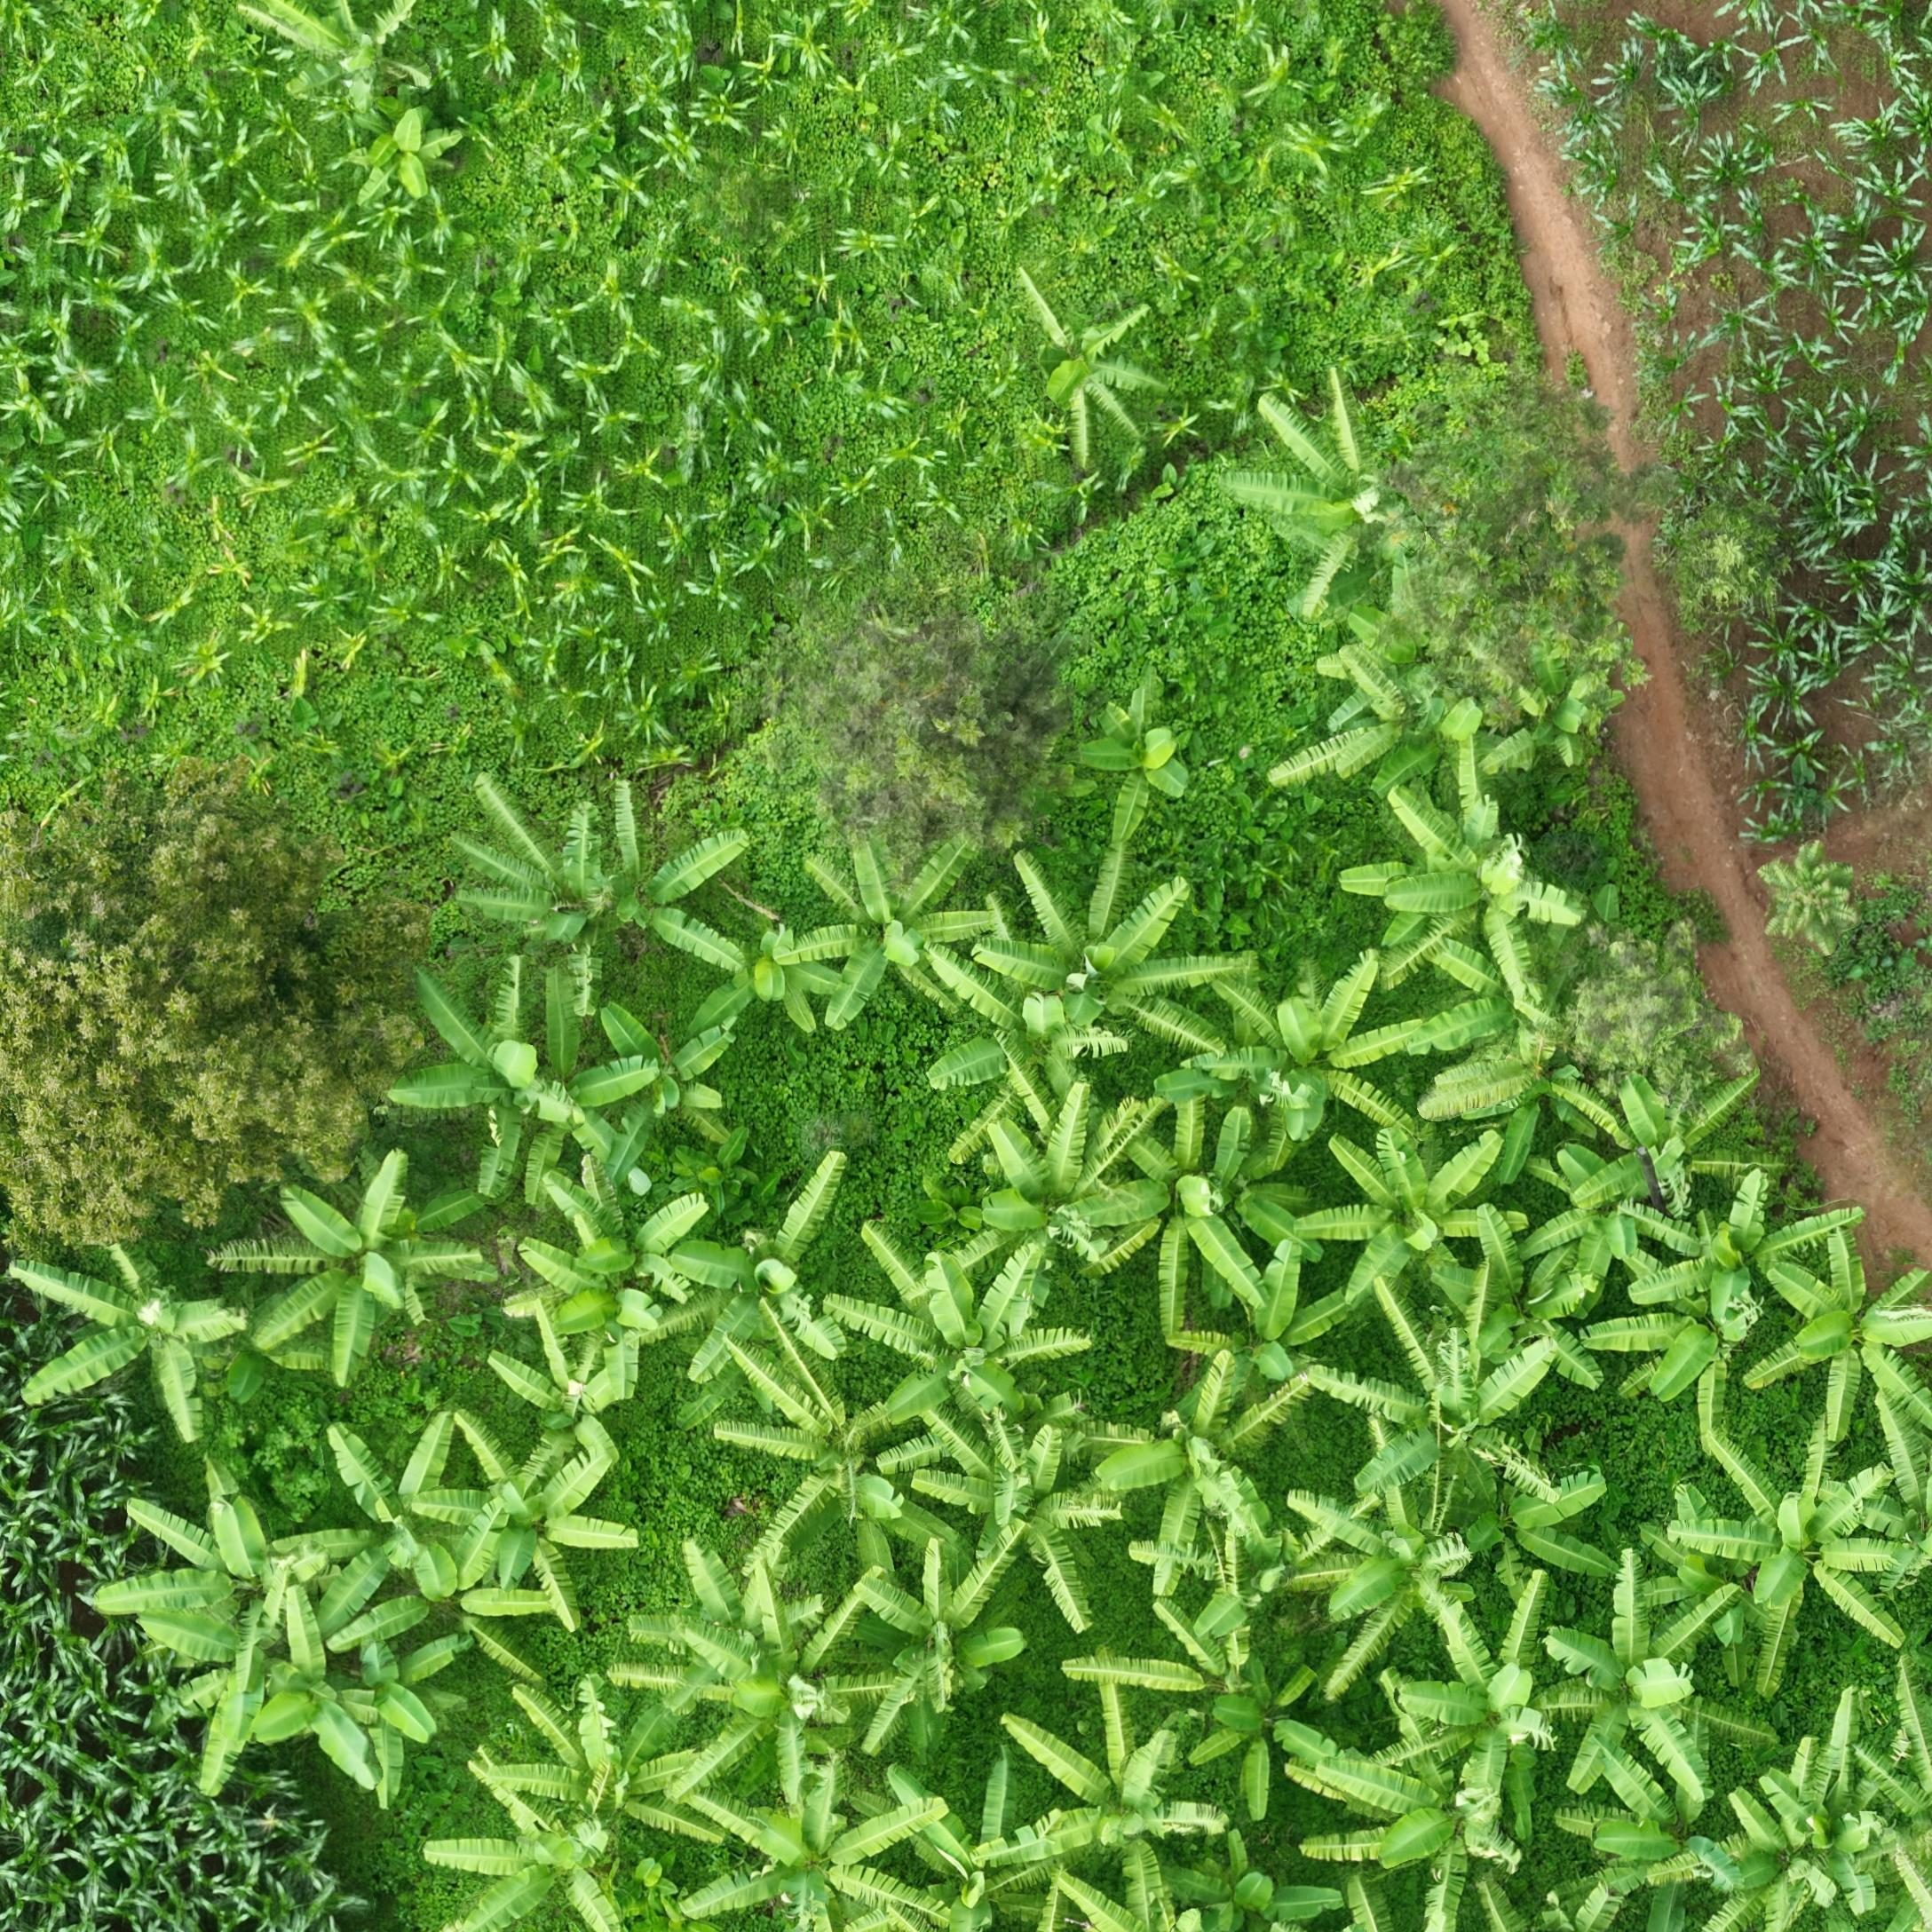Banana: (1083, 918, 1231, 1069), (1030, 1154, 1169, 1295), (483, 1058, 621, 1194), (867, 899, 998, 1028), (750, 1684, 872, 1822), (221, 1568, 331, 1720), (1180, 1465, 1304, 1598), (948, 1327, 1070, 1460), (324, 1230, 437, 1369), (1472, 842, 1583, 977), (1407, 1559, 1514, 1695), (1304, 1040, 1424, 1159), (936, 1631, 1037, 1771), (1419, 1196, 1529, 1316), (1113, 1812, 1223, 1932), (1817, 1530, 1925, 1652), (1647, 1695, 1757, 1813), (502, 1497, 602, 1626), (1617, 1205, 1707, 1309), (777, 1861, 902, 1932), (1826, 1865, 1932, 1932)
